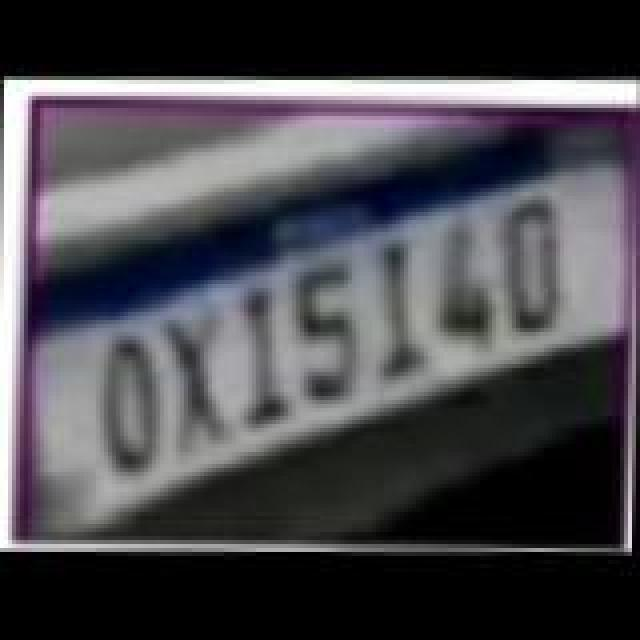4: (440, 220, 500, 348)
5: (296, 266, 364, 406)
D: (502, 200, 566, 340)
I: (242, 294, 298, 434), (374, 248, 430, 388)
O: (102, 336, 170, 476)
X: (160, 314, 232, 454)
